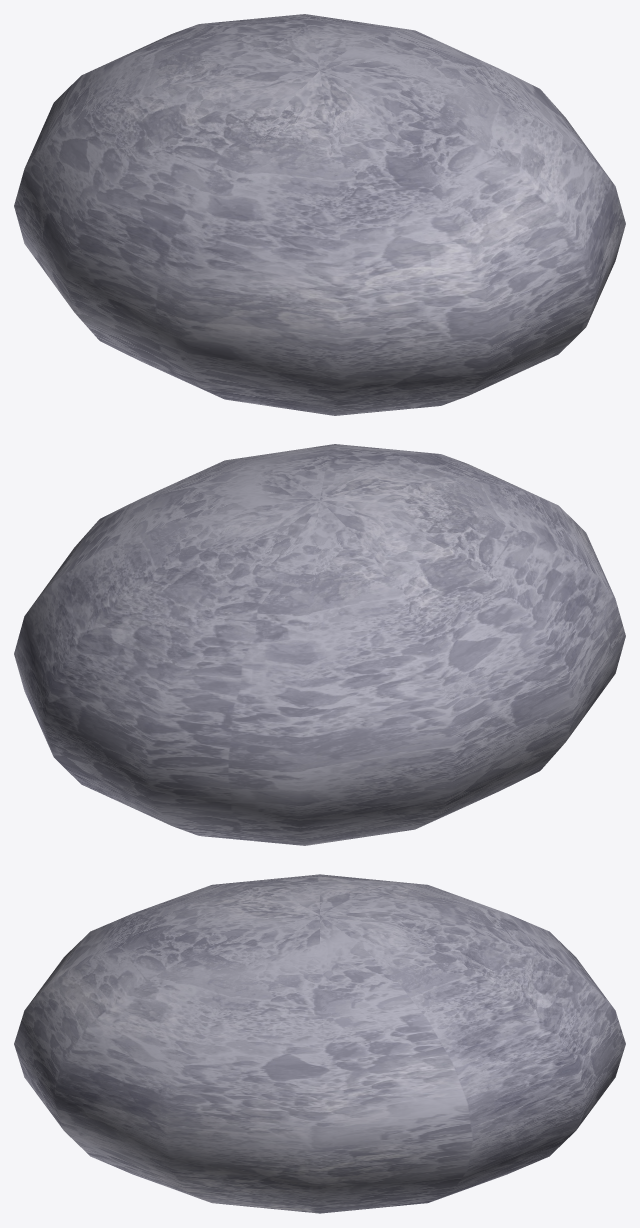
File: rock-2.fbx
3 renders of one model, top to bottom at view 1: azimuth 30°, elevation 25°; view 2: azimuth 150°, elevation 25°; view 3: azimuth 270°, elevation 25°, orthographic. The views are drawn at different scales.
Visible parts, largest first — view 1: pSphere2; view 2: pSphere2; view 3: pSphere2.
Part boxes in pixels (<box>): pSphere2: <box>14,14,625,415</box>; pSphere2: <box>14,444,625,845</box>; pSphere2: <box>14,874,625,1213</box>.
Size of the model in its own units: 3.68 by 2 by 4.3.
Materials: 1 (1 with a texture image).
